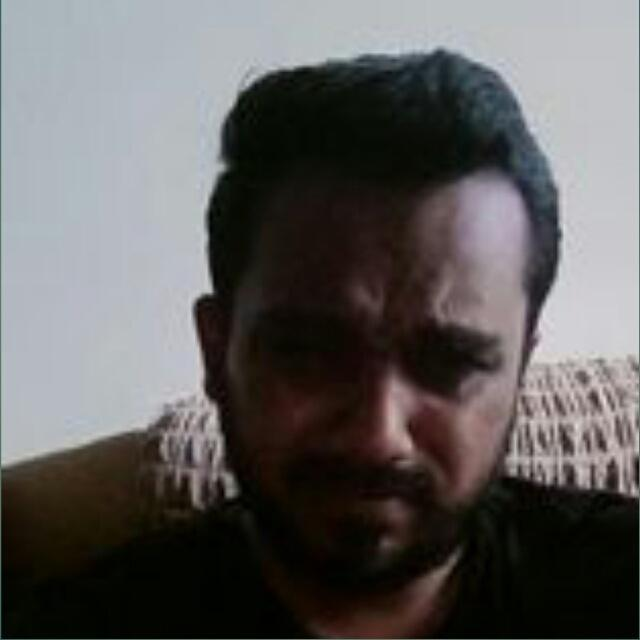sad: (109, 85, 601, 597)
